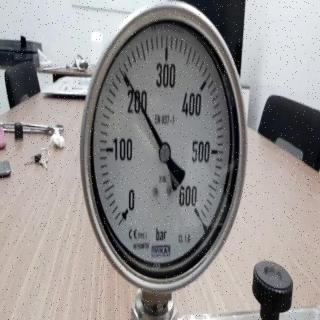gauge: (81, 1, 247, 293), (173, 186, 209, 230), (112, 192, 137, 231), (157, 142, 171, 162), (116, 65, 128, 77)
